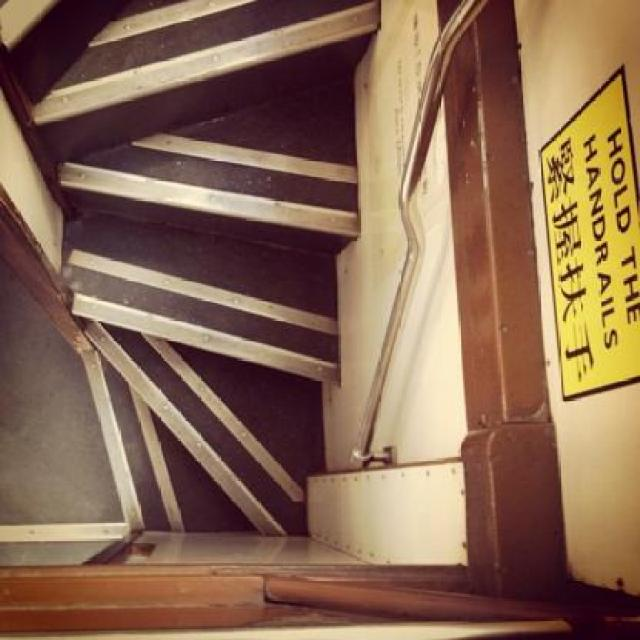stair: (0, 0, 383, 534)
